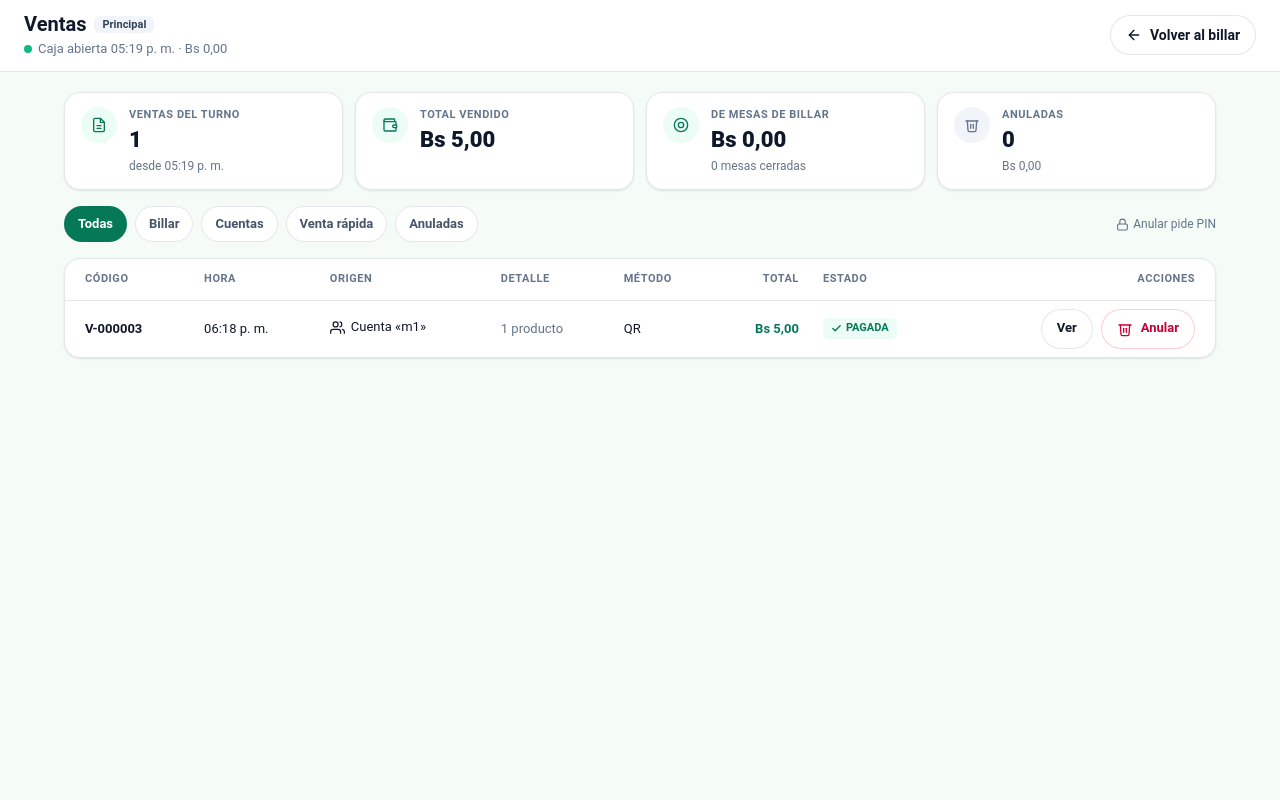
Test: Billar: Ventas del turno › cancelar «Anular» desde la lista vuelve a la lista, sin abrir el detalle de la venta
Click the button "Anular".
click(1148, 329)  # box x1=1101 y1=309 x2=1195 y2=349
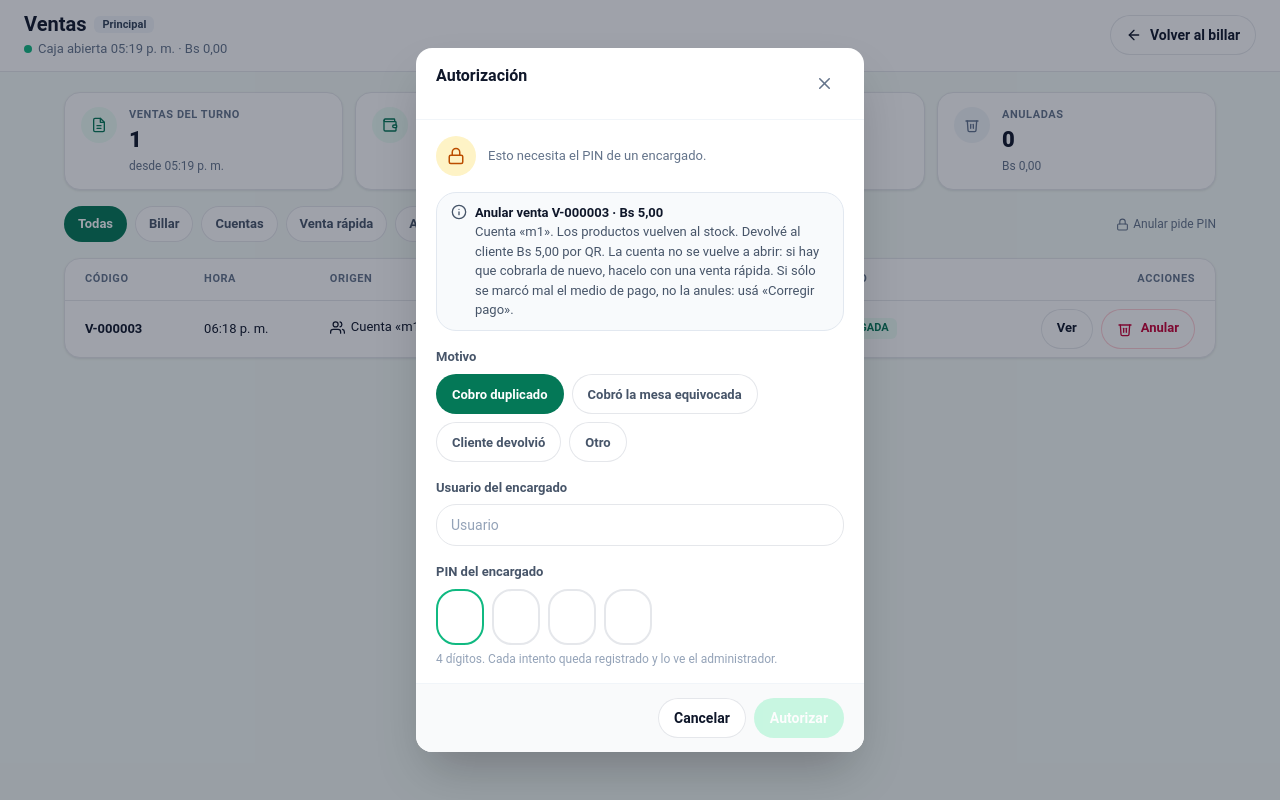
Result: the text "Anular venta V-000003 · Bs 5,00" is shown at x1=475 y1=205 x2=663 y2=220
Click the button "Cancelar".
click(702, 718)  # box x1=658 y1=698 x2=746 y2=738
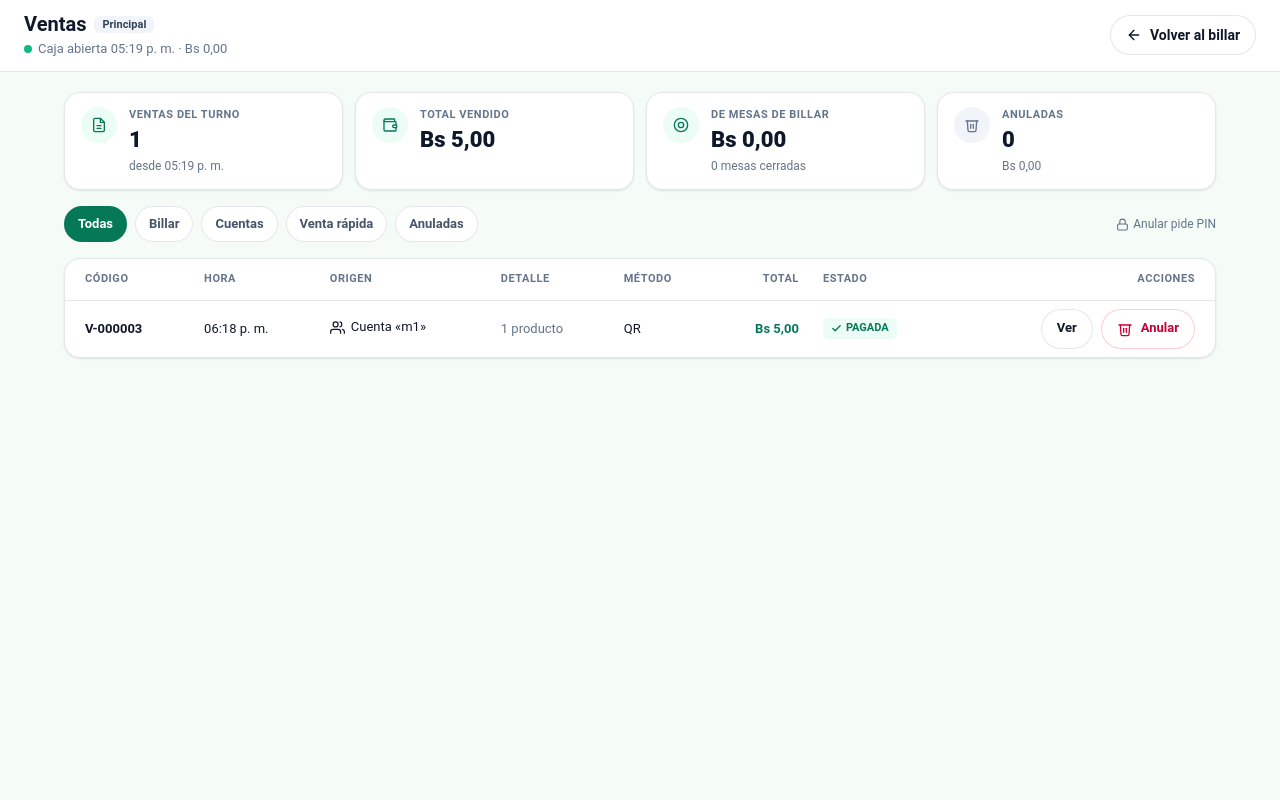
Result: the dialog is gone
